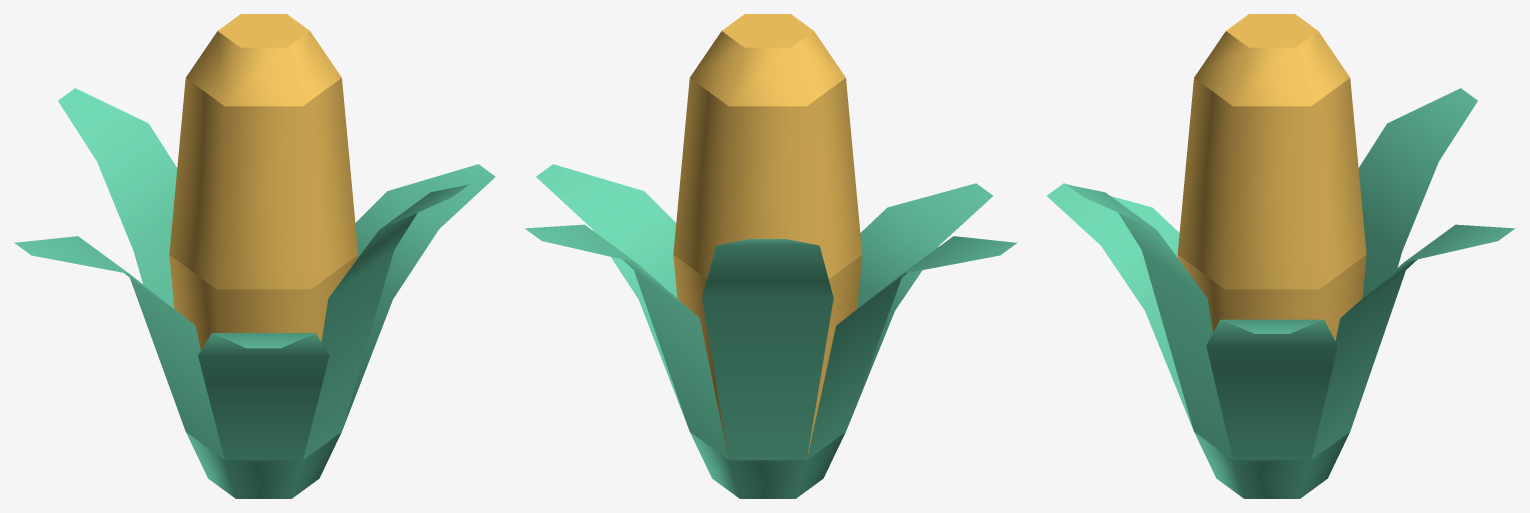
Rendered from corn.obj.
3 views of the same model, side by side, from view 1: azimuth 30°, elevation 25°; view 2: azimuth 150°, elevation 25°; view 3: azimuth 270°, elevation 25° (orthographic).
Parts seen in each view (by area): view 1: corn; view 2: corn; view 3: corn.
Part boxes in pixels (x1,y1,x2,y2): corn: [14, 14, 495, 498]; corn: [525, 14, 1016, 498]; corn: [1047, 14, 1514, 498].
Bounding box in the file's own units: 0.3432 × 0.3162 × 0.3002.
